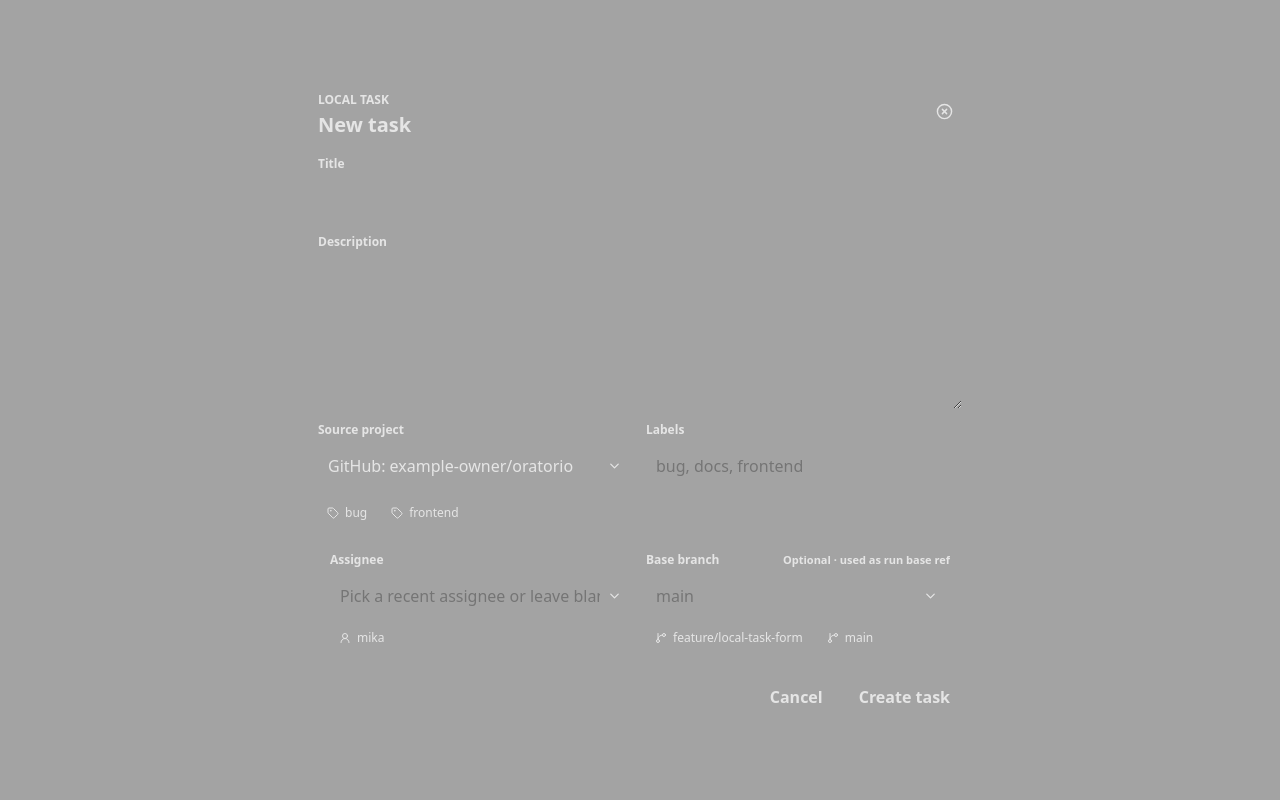
LocalTaskFormDialog › fills and clears assignee and base branch from quick-pick chips
Click the button "mika".
click(362, 638)  # box [330,624,394,652]
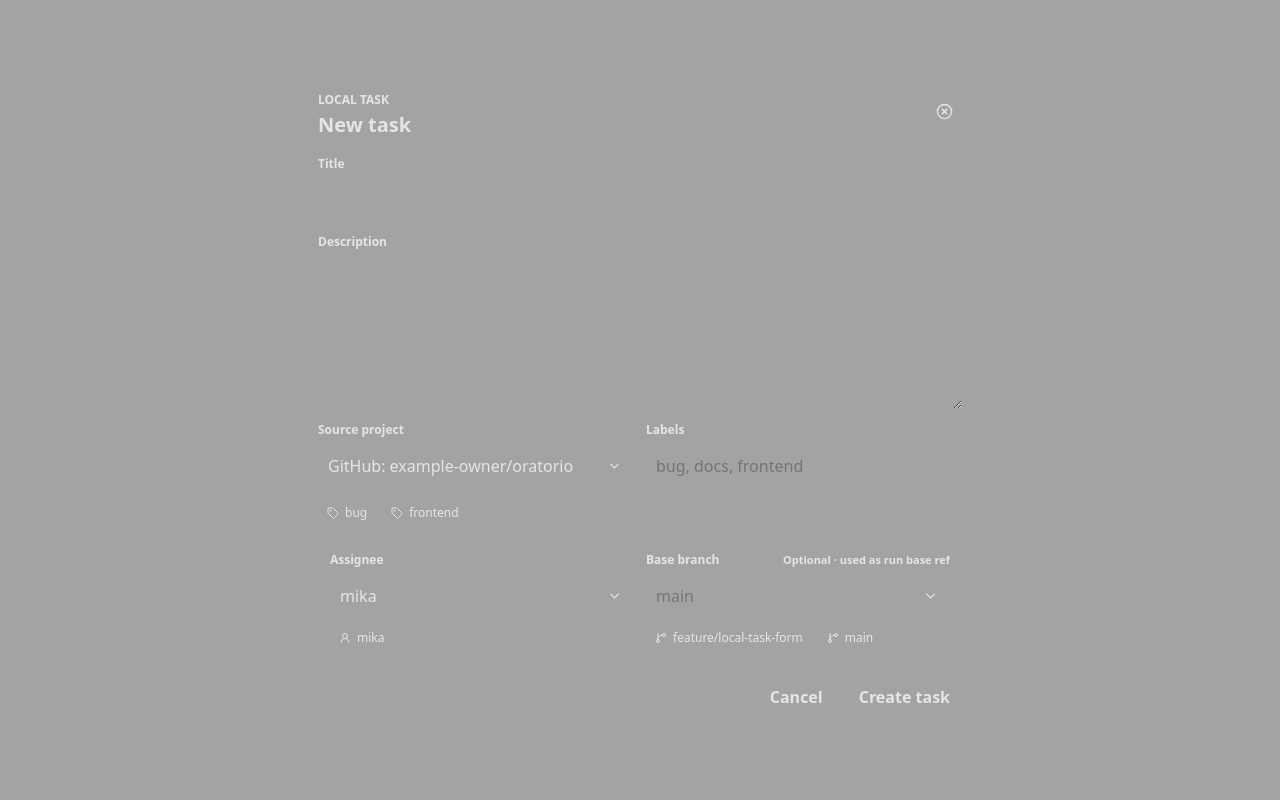
Expected: the dropdown labelled "Assignee" holds "mika", [330,574,634,616]
Click the button "mika".
click(362, 638)  # box [330,624,394,652]
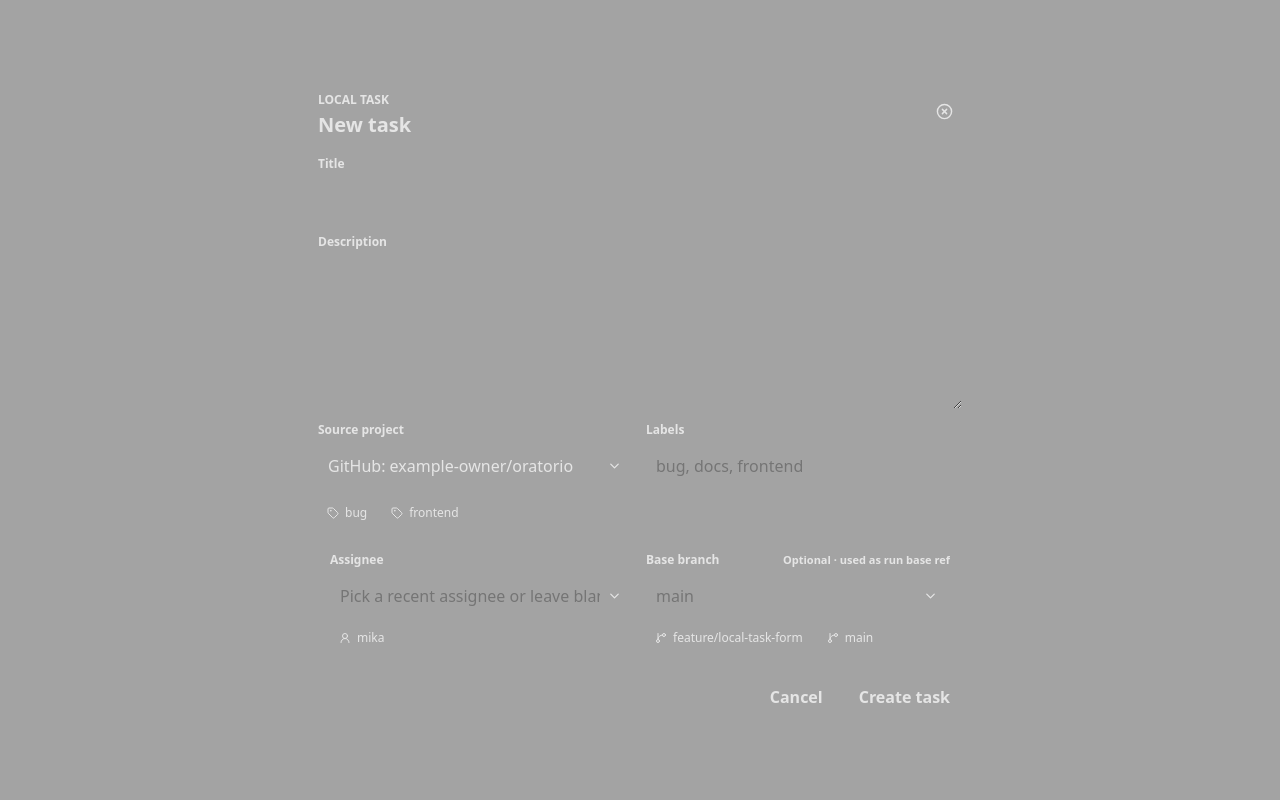
Expected: the dropdown labelled "Assignee" is empty, [330,574,634,616]
Click the button "feature/local-task-form".
click(729, 638)  # box [646,624,812,652]
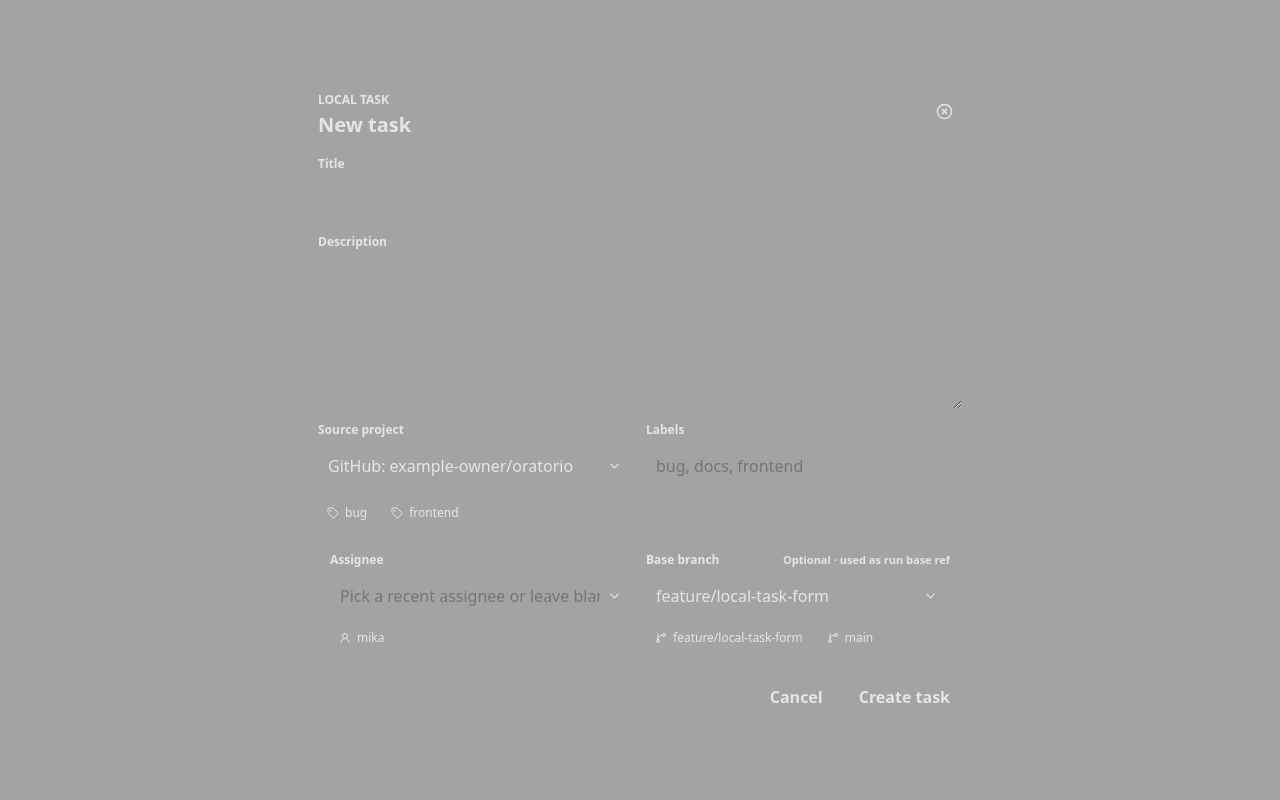
Expected: the dropdown with placeholder "main" holds "feature/local-task-form", [646,574,950,616]
